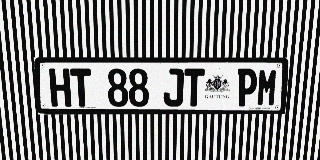8: (107, 68, 128, 107), (128, 68, 149, 107)
H: (49, 68, 71, 107)
J: (163, 69, 184, 106)
M: (256, 69, 279, 106)
P: (236, 69, 258, 106)
T: (70, 68, 92, 107), (184, 69, 205, 106)
